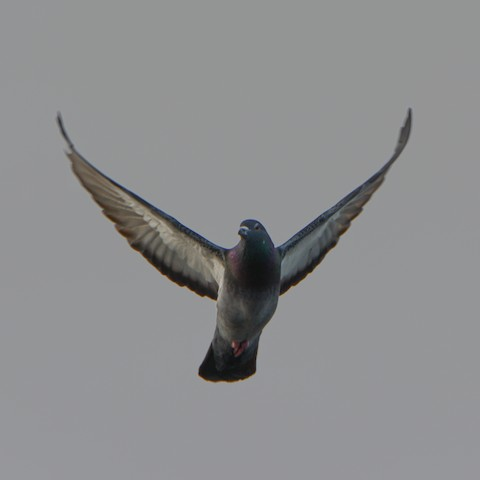pigeon: (49, 89, 428, 390)
